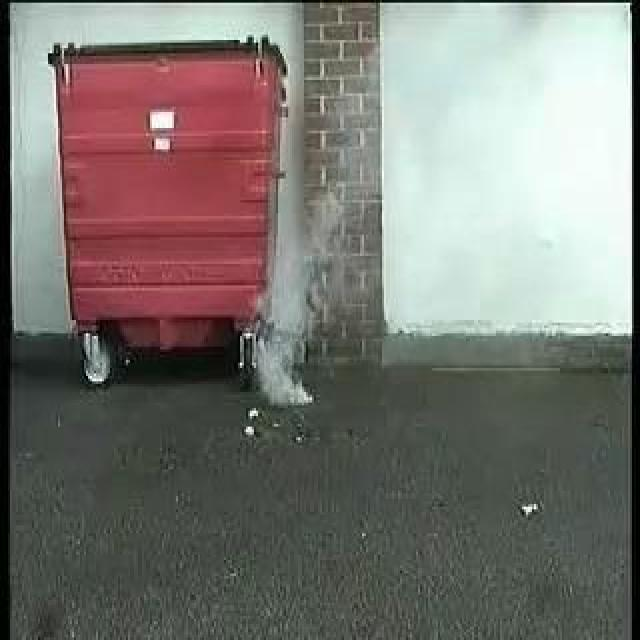Smoke: (247, 251, 325, 405)
